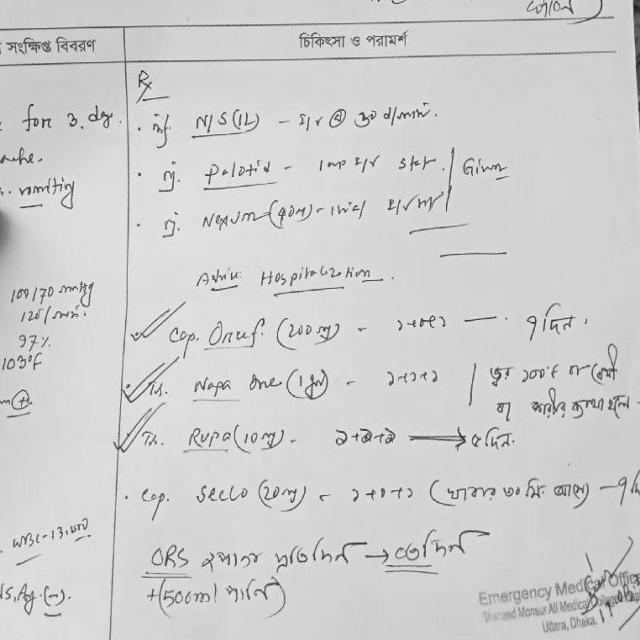medicine: (188, 373, 282, 401), (198, 160, 279, 187), (204, 316, 264, 348), (196, 207, 263, 234), (190, 479, 250, 507), (188, 102, 230, 134), (182, 427, 232, 451)
